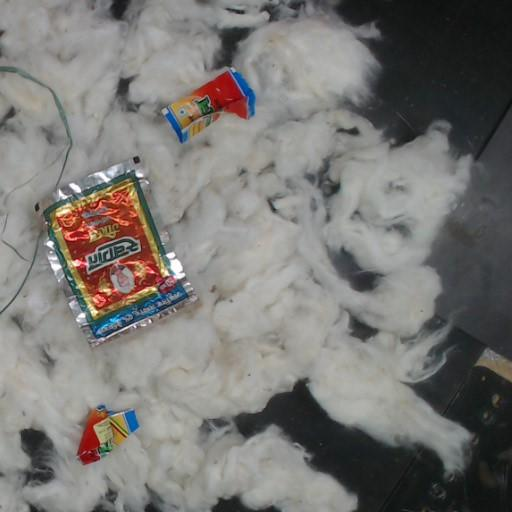conveyor belt: (237, 0, 511, 511), (22, 429, 51, 479), (335, 251, 375, 287), (217, 28, 246, 67), (351, 320, 374, 338), (215, 498, 246, 511), (109, 0, 129, 19)
cotton: (0, 74, 66, 307)
packet: (43, 156, 196, 345), (162, 68, 254, 142), (77, 405, 138, 463)
thread: (0, 65, 72, 191), (0, 247, 37, 314)
